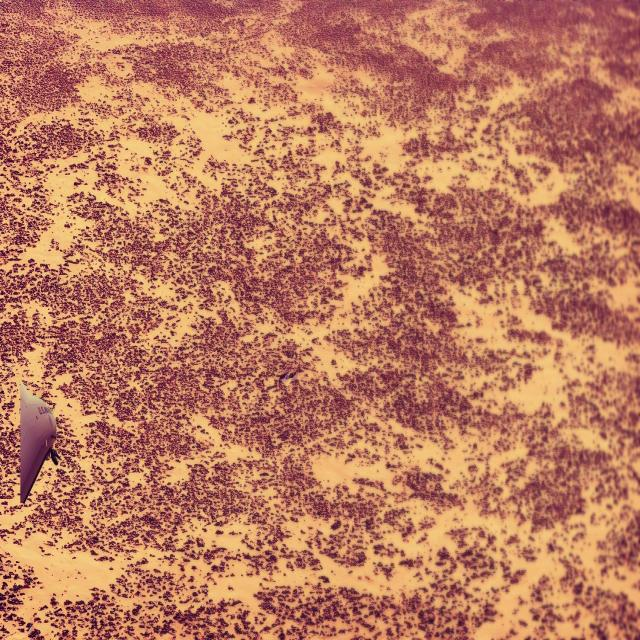airplane: (19, 382, 59, 505)
